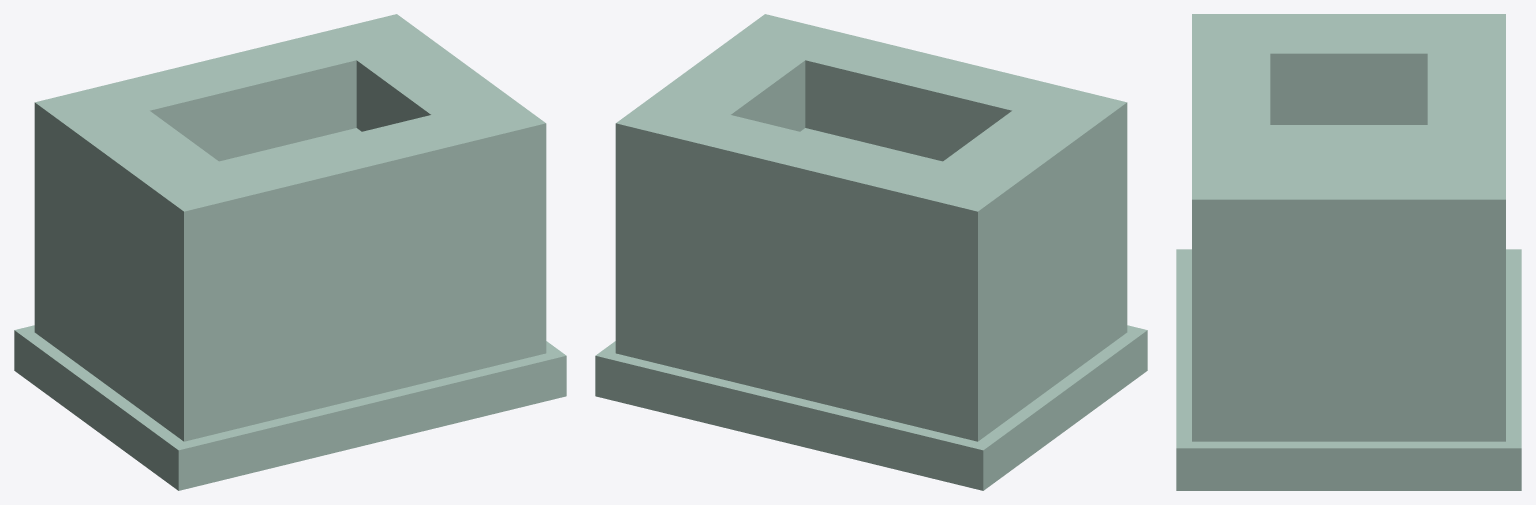
The model's file is cavity.glb.
3 renders of one model, left to right at view 1: azimuth 30°, elevation 25°; view 2: azimuth 150°, elevation 25°; view 3: azimuth 270°, elevation 25°, orthographic. The views are drawn at different scales.
Visible parts, largest first — view 1: model-cavity; view 2: model-cavity; view 3: model-cavity.
Boxes of the visible parts, left/top/right/bottom form: model-cavity: left=14, top=14, right=566, bottom=490; model-cavity: left=595, top=14, right=1147, bottom=490; model-cavity: left=1176, top=14, right=1521, bottom=490.
Size of the model in its own units: 1.5 by 1 by 1.1.
